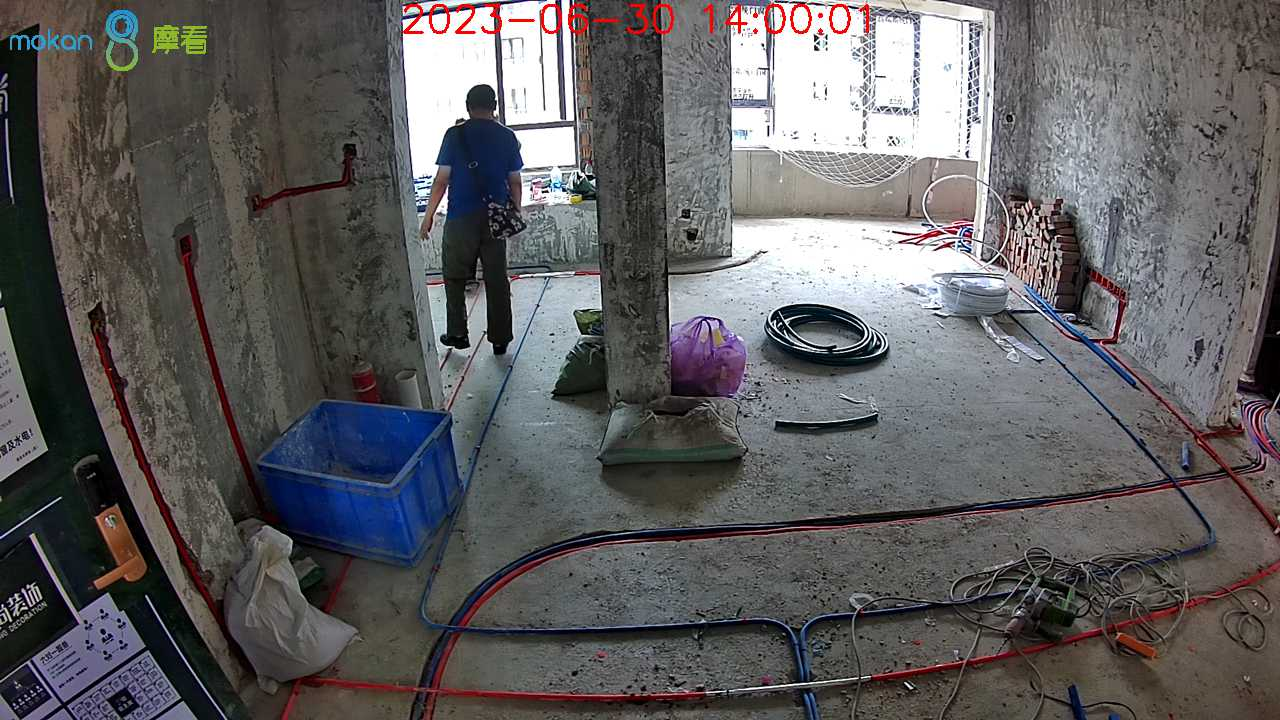people: (432, 82, 530, 349)
window: (731, 5, 981, 162), (391, 12, 583, 163)
